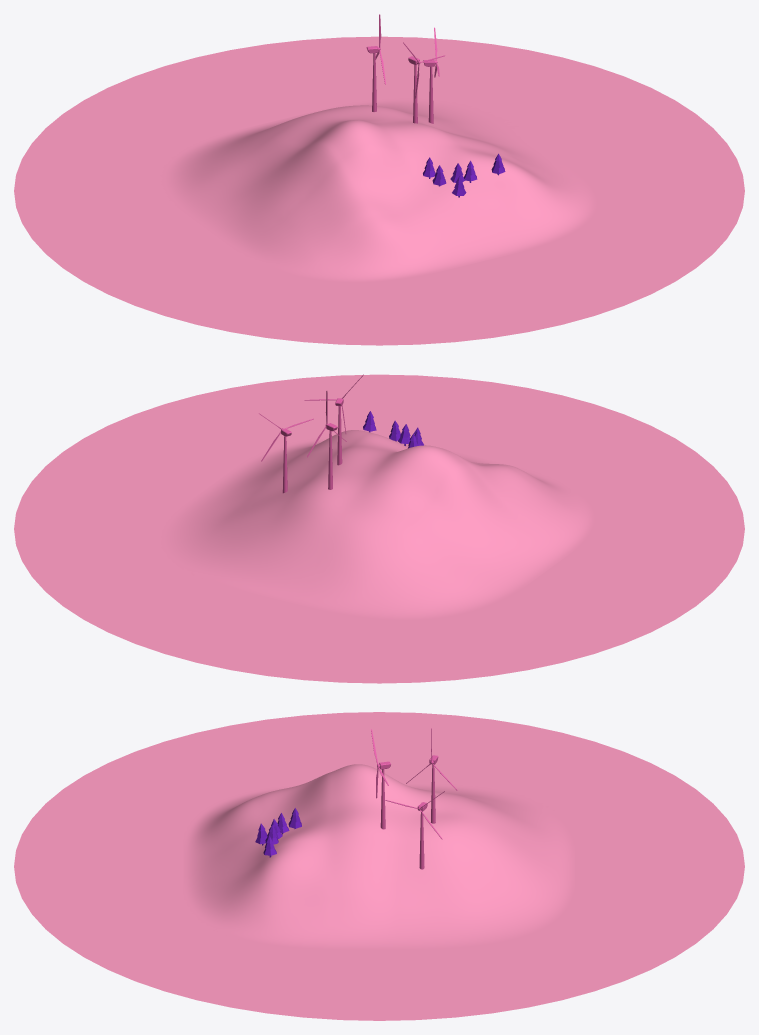
Rendered from city3.glb.
3 renders of one model, top to bottom at view 1: azimuth 30°, elevation 25°; view 2: azimuth 150°, elevation 25°; view 3: azimuth 270°, elevation 25°, orthographic.
Visible parts, largest first — view 1: floor, Landscape.010; view 2: floor, Landscape.010; view 3: floor, Landscape.010.
Part boxes in pixels (<box>): floor: <box>14,36,744,345</box>; Landscape.010: <box>113,78,647,303</box>; floor: <box>14,374,744,683</box>; Landscape.010: <box>111,416,645,641</box>; floor: <box>14,712,744,1020</box>; Landscape.010: <box>183,764,575,949</box>.
Bounding box in the file's own units: 59.21 × 13.5 × 59.21.
